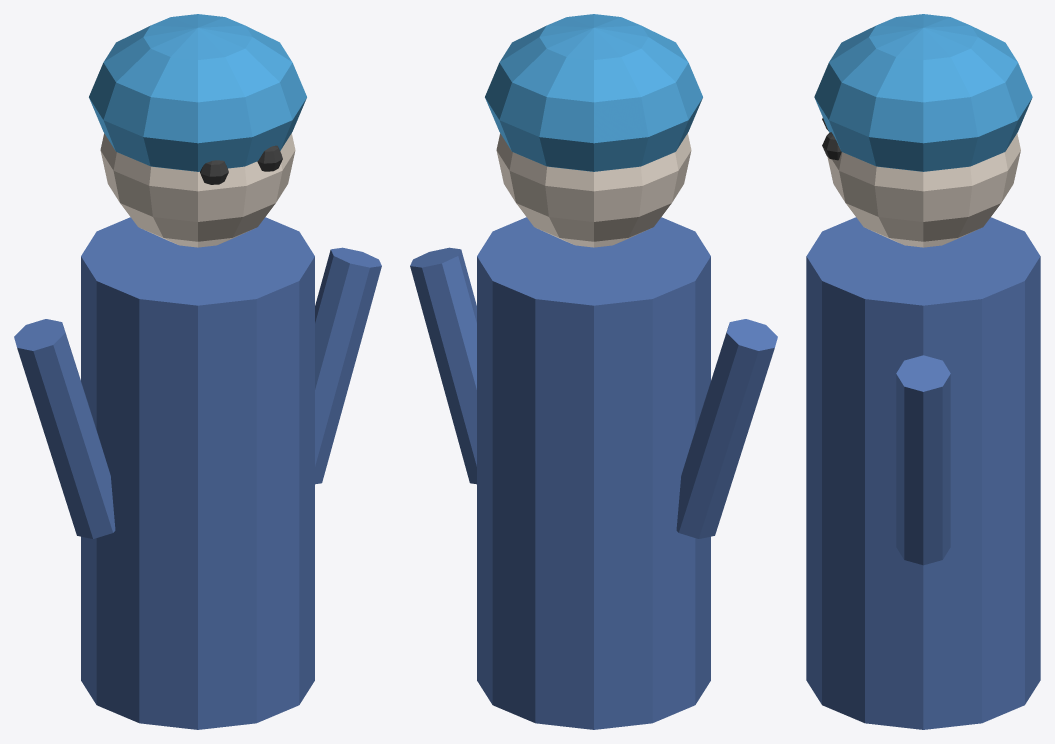
File: hero_tchaikovsky.glb
The picture shows the model from 3 angles, left to right: view 1: azimuth 30°, elevation 25°; view 2: azimuth 150°, elevation 25°; view 3: azimuth 270°, elevation 25°; orthographic projection.
Visible parts, largest first — view 1: hero_tchaikovsky_Body, hero_tchaikovsky_Wig, hero_tchaikovsky_Head, hero_tchaikovsky_Arm, hero_tchaikovsky_Arm.001; view 2: hero_tchaikovsky_Body, hero_tchaikovsky_Wig, hero_tchaikovsky_Head, hero_tchaikovsky_Arm, hero_tchaikovsky_Arm.001; view 3: hero_tchaikovsky_Body, hero_tchaikovsky_Wig, hero_tchaikovsky_Head, hero_tchaikovsky_Arm.001.
Part boxes in pixels (x1,y1,x2,y2): hero_tchaikovsky_Body: (81,217,314,729); hero_tchaikovsky_Wig: (89,14,306,171); hero_tchaikovsky_Head: (100,133,295,247); hero_tchaikovsky_Arm: (14,319,115,538); hero_tchaikovsky_Arm.001: (315,247,381,484); hero_tchaikovsky_Body: (477,217,710,729); hero_tchaikovsky_Wig: (485,14,702,171); hero_tchaikovsky_Head: (496,133,691,247); hero_tchaikovsky_Arm: (676,319,777,538); hero_tchaikovsky_Arm.001: (410,247,476,484); hero_tchaikovsky_Body: (806,217,1040,729); hero_tchaikovsky_Wig: (814,14,1032,171); hero_tchaikovsky_Head: (827,133,1020,247); hero_tchaikovsky_Arm.001: (896,355,950,565).
Size of the model in its own units: 1.07 by 1.85 by 0.6.
